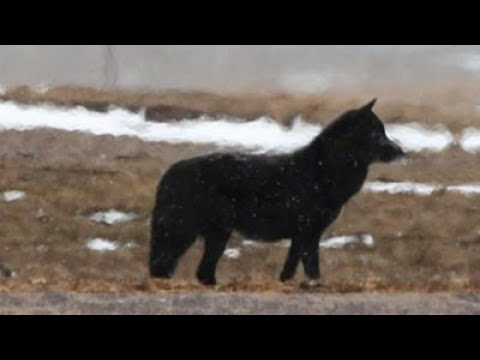Lobo: (139, 93, 406, 282)
